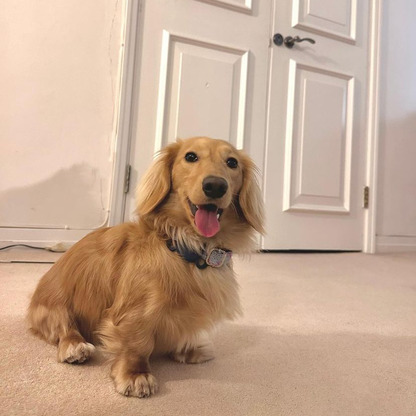dachshund: (21, 129, 298, 393)
